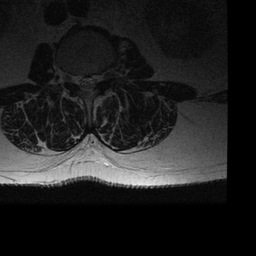CCS_stenosis: (83, 67, 91, 97)
LFS_normal: (98, 66, 106, 87)
LLS_normal: (90, 67, 98, 93)
RFS_normal: (67, 64, 75, 88)
RLS_normal: (76, 67, 83, 92)
